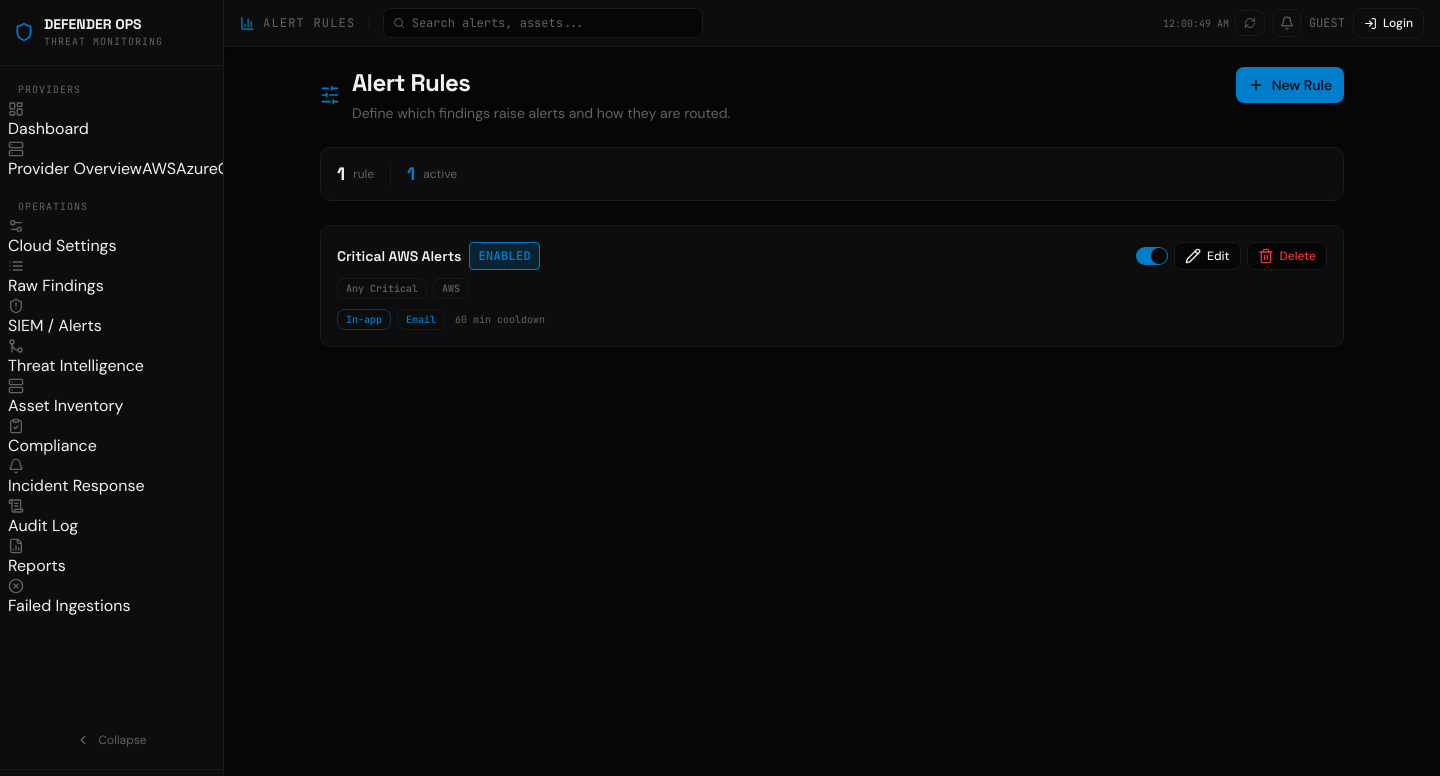
Scenario: AlertRulesPage rule builder (cover) › requires an escalation recipient when an escalation window is set
Click the button with test id "alert_rules.create_button" at (1290, 85), box x1=1236 y1=67 x2=1344 y2=103
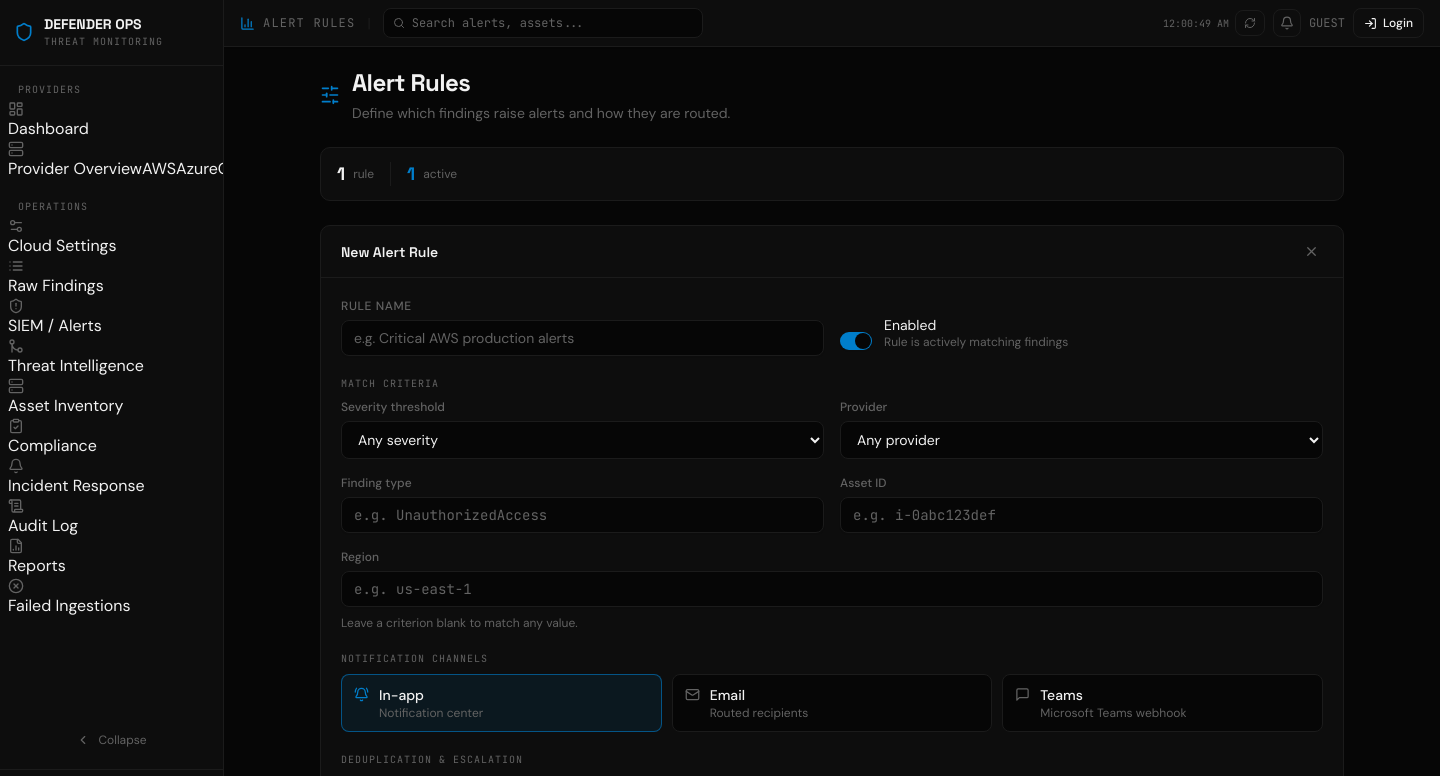
Type "Escalating rule" into the field with test id "alert_rules.name_input" at (582, 338), box x1=341 y1=320 x2=824 y2=356
(page scrolled)
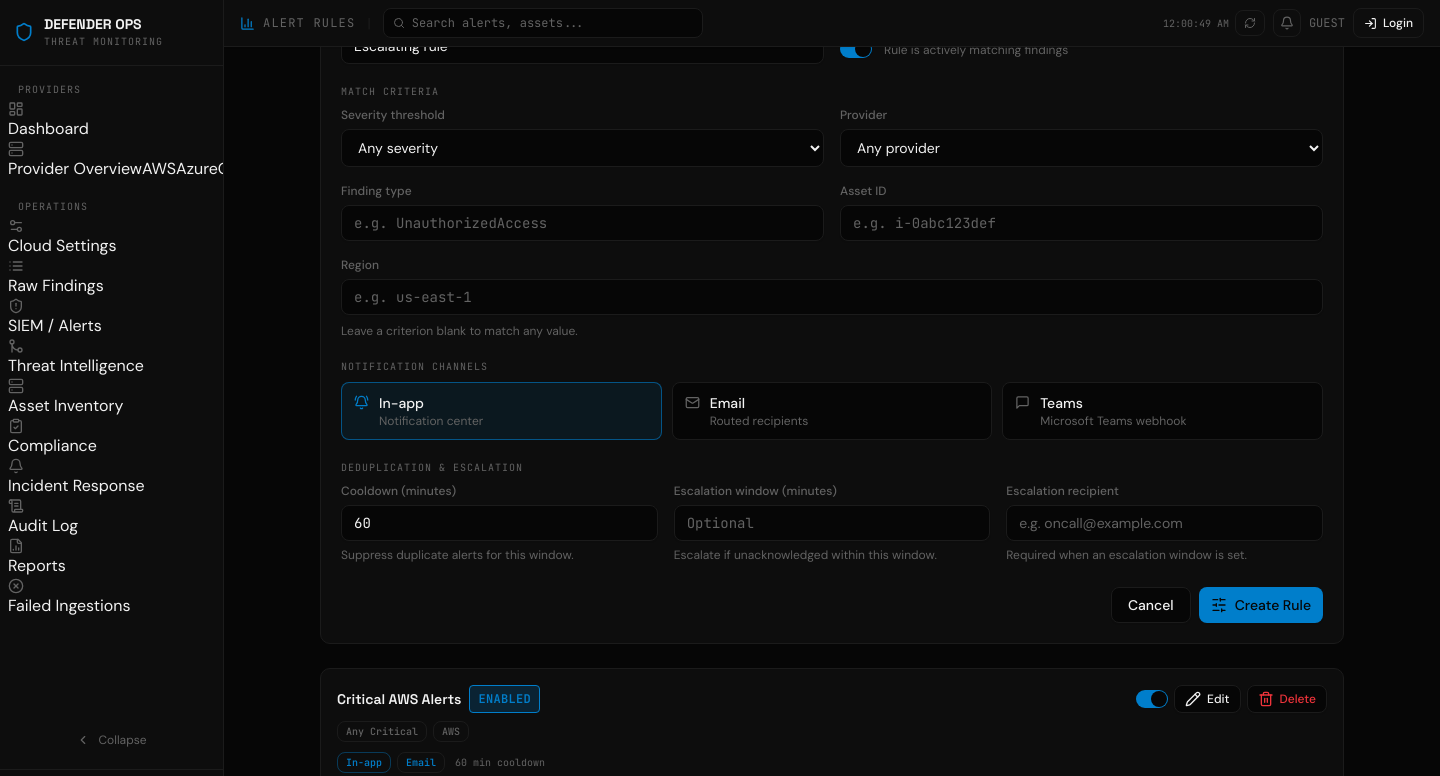
Type "30" into the number field with test id "alert_rules.escalation_minutes_input" at (832, 523), box x1=674 y1=505 x2=990 y2=541
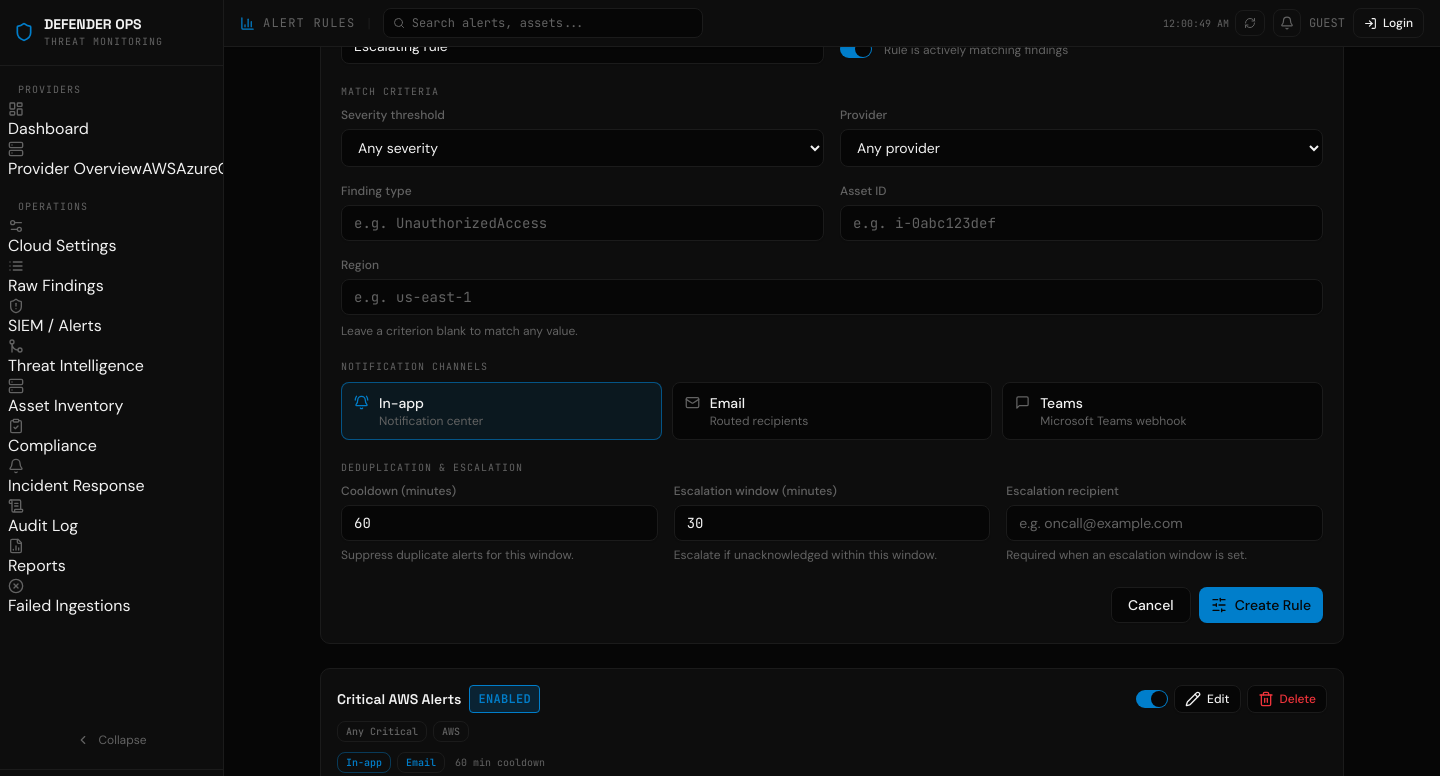
Click the button with test id "alert_rules.form.submit_button" at (1261, 605), box x1=1199 y1=587 x2=1323 y2=623
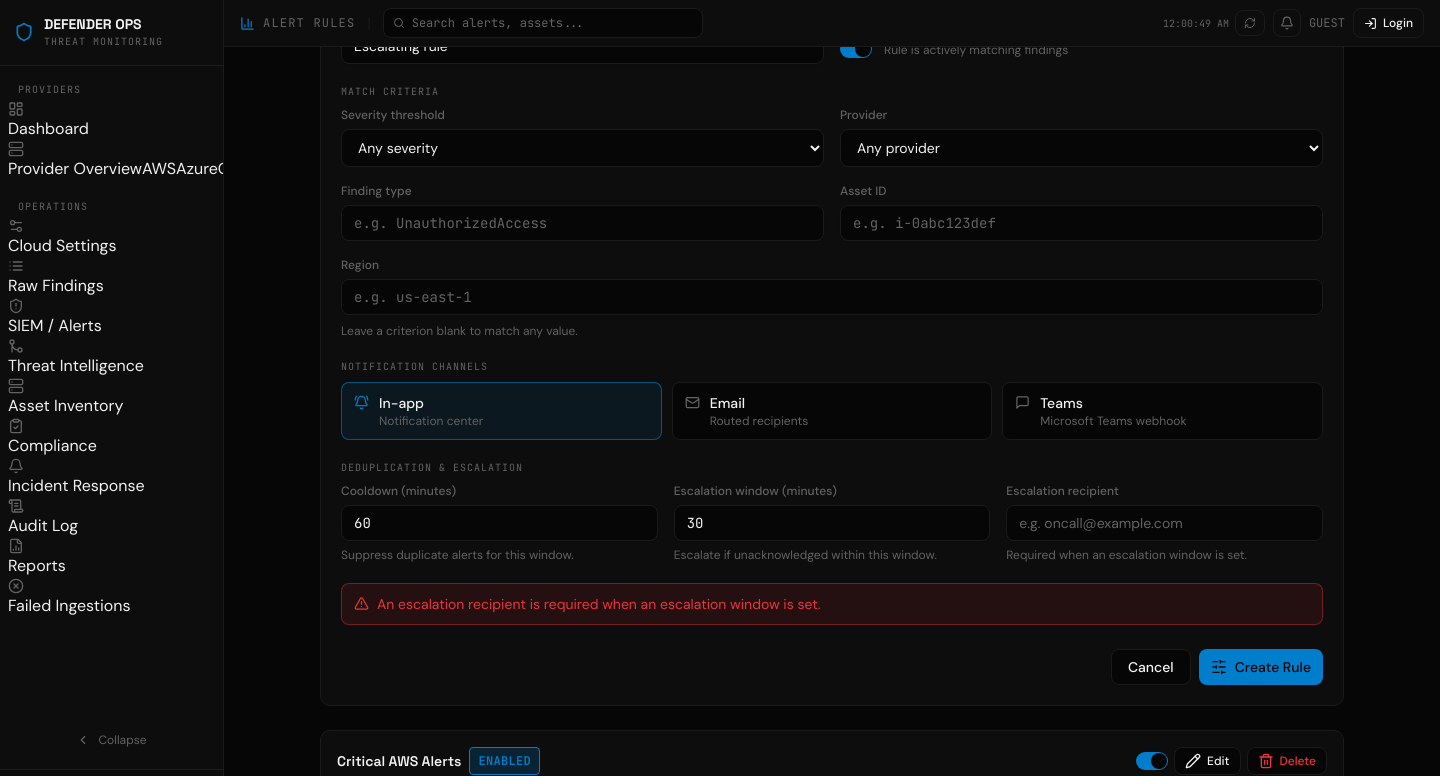
expect the message with test id "alert_rules.form.error_state" shows "escalation recipient": met, box x1=377 y1=595 x2=820 y2=613
